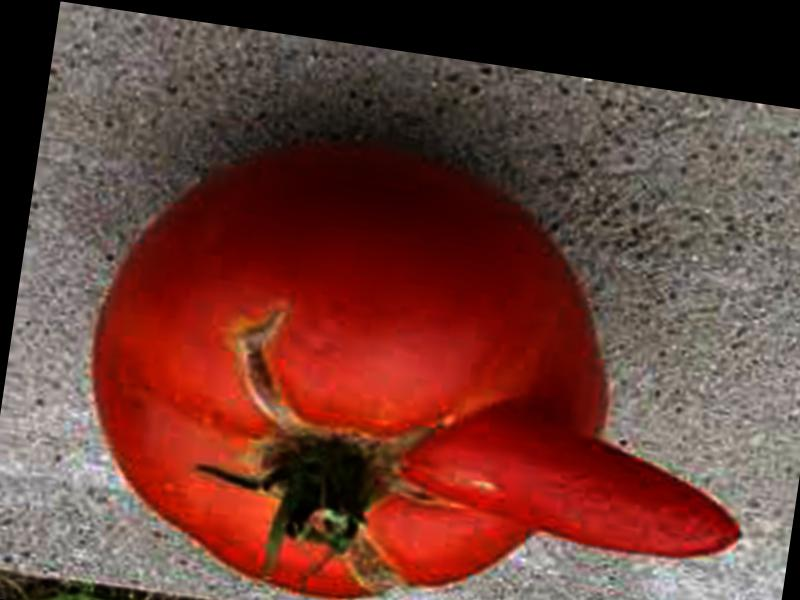Tomato: (58, 124, 637, 600)
